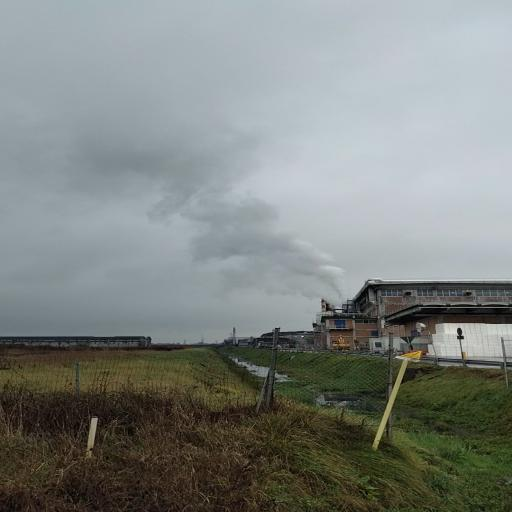leakage: (61, 123, 367, 314)
